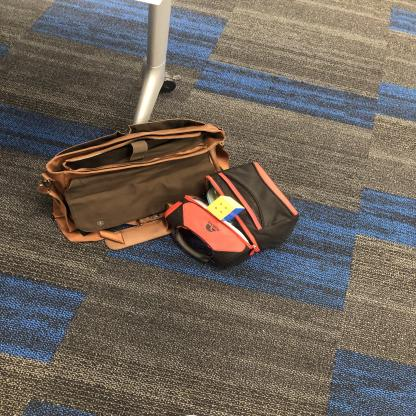SolvedCube: (200, 192, 246, 223)
